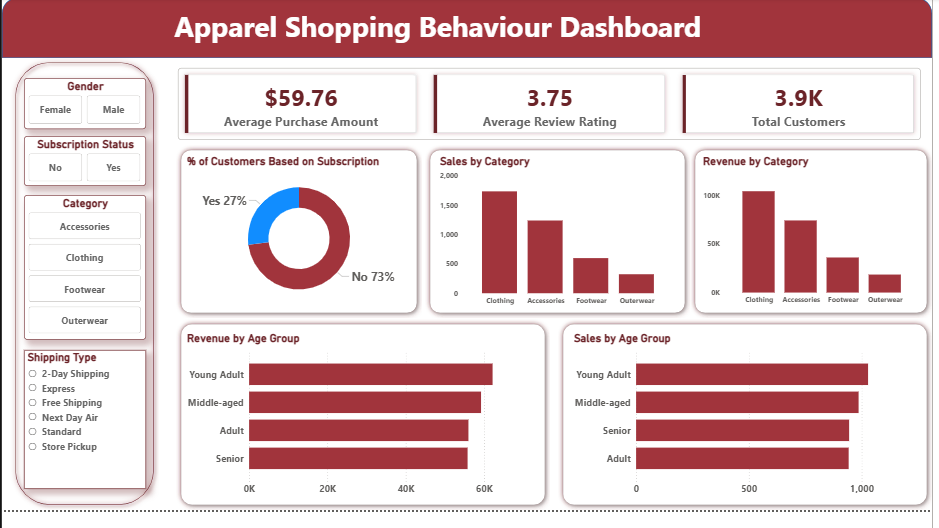

The page's visual inventory and layout, read from the dashboard file:
{"tool":"powerbi","page":{"name":"Insights","canvas":[1600,850],"ordinal":0},"visuals":[{"type":"cardVisual","fields":{"Data":["customer_shopping_behaviour customer_shopping.avg_purchase_amt","customer_shopping_behaviour customer_shopping.avg_review_rating","customer_shopping_behaviour customer_shopping.Total Customers"]},"box":[285.6,103.2,1314.4,158.3],"z":0},{"type":"shape","box":[0,0,1600,103.2],"z":1000},{"type":"textbox","box":[188.7,9.7,1121,82.3],"z":2000},{"type":"shape","box":[1183.7,252.9,416.3,297.6],"z":3000},{"type":"shape","box":[299.4,252.9,423.2,297.6],"z":4000},{"type":"shape","box":[727.7,252.9,455.9,297.6],"z":5000},{"type":"clusteredColumnChart","title":"Revenue by Category","fields":{"Y":["Sum(customer_shopping_behaviour customer_shopping.purchase_amount)"],"Category":["customer_shopping_behaviour customer_shopping.category"]},"box":[1200.9,270.1,381.9,266.7],"z":6000},{"type":"clusteredColumnChart","title":"Sales by Category","fields":{"Y":["CountNonNull(customer_shopping_behaviour customer_shopping.customer_id)"],"Category":["customer_shopping_behaviour customer_shopping.category"]},"box":[749,269.4,412.2,267.8],"z":7000},{"type":"donutChart","title":"% of Customers Based on Subscription","fields":{"Category":["customer_shopping_behaviour customer_shopping.subscription_status"],"Y":["CountNonNull(customer_shopping_behaviour customer_shopping.customer_id)"]},"box":[313.1,270.1,395.7,264.9],"z":8000},{"type":"shape","box":[13.8,101.5,256.3,748.4],"z":9000},{"type":"advancedSlicerVisual","title":"Gender","fields":{"Values":["customer_shopping_behaviour customer_shopping.gender"]},"box":[37.8,137.6,209.9,87.7],"z":10000},{"type":"advancedSlicerVisual","title":"Subscription Status","fields":{"Values":["customer_shopping_behaviour customer_shopping.subscription_status"]},"box":[37.8,237.4,209.9,86],"z":11000},{"type":"advancedSlicerVisual","title":"Category","fields":{"Values":["customer_shopping_behaviour customer_shopping.category"]},"box":[37.8,338.9,209.9,249.5],"z":12000},{"type":"listSlicer","title":"Shipping Type","fields":{"Values":["customer_shopping_behaviour customer_shopping.shipping_type"]},"box":[37.8,602.2,209.9,209.9],"z":13000},{"type":"shape","box":[299.4,552.3,679.6,297.6],"z":14000},{"type":"shape","box":[978.9,552.3,621.1,297.6],"z":15000},{"type":"clusteredBarChart","title":"Revenue by Age Group","fields":{"Y":["Sum(customer_shopping_behaviour customer_shopping.purchase_amount)"],"Category":["customer_shopping_behaviour customer_shopping.age_group"]},"box":[325.2,574.6,617.6,256.3],"z":16000},{"type":"clusteredBarChart","title":"Sales by Age Group","fields":{"Y":["CountNonNull(customer_shopping_behaviour customer_shopping.customer_id)"],"Category":["customer_shopping_behaviour customer_shopping.age_group"]},"box":[1003,574.6,579.8,256.3],"z":17000}]}

Visuals, with their boxes on the page's 1600x850 design canvas (x1, y1, x2, y2). These are canvas units, not pixel positions in the 939x528 screenshot, which may show the page scaled, cropped or inside an application window:
cardVisual - customer_shopping_behaviour customer_shopping.avg_purchase_amt x customer_shopping_behaviour customer_shopping.avg_review_rating: 286, 103, 1600, 262
shape: 0, 0, 1600, 103
textbox: 189, 10, 1310, 92
shape: 1184, 253, 1600, 550
shape: 299, 253, 723, 550
shape: 728, 253, 1184, 550
"Revenue by Category" clusteredColumnChart: 1201, 270, 1583, 537
"Sales by Category" clusteredColumnChart: 749, 269, 1161, 537
"% of Customers Based on Subscription" donutChart: 313, 270, 709, 535
shape: 14, 102, 270, 850
"Gender" advancedSlicerVisual: 38, 138, 248, 225
"Subscription Status" advancedSlicerVisual: 38, 237, 248, 323
"Category" advancedSlicerVisual: 38, 339, 248, 588
"Shipping Type" listSlicer: 38, 602, 248, 812
shape: 299, 552, 979, 850
shape: 979, 552, 1600, 850
"Revenue by Age Group" clusteredBarChart: 325, 575, 943, 831
"Sales by Age Group" clusteredBarChart: 1003, 575, 1583, 831
